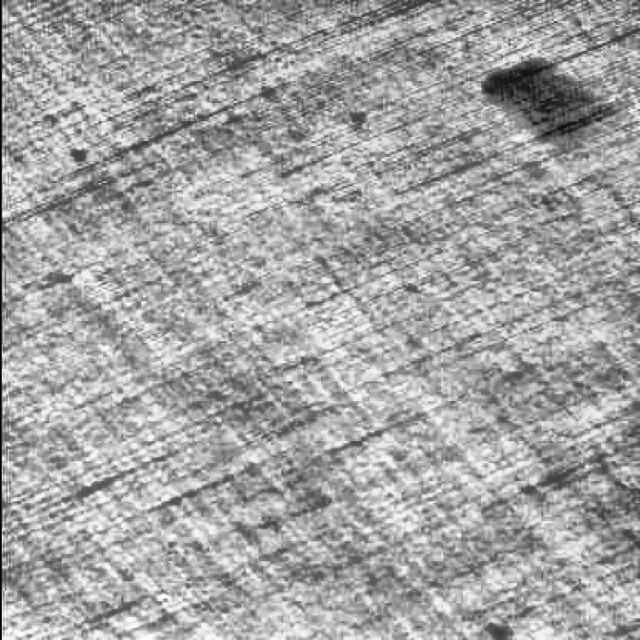oil_spot: (472, 46, 621, 162)
